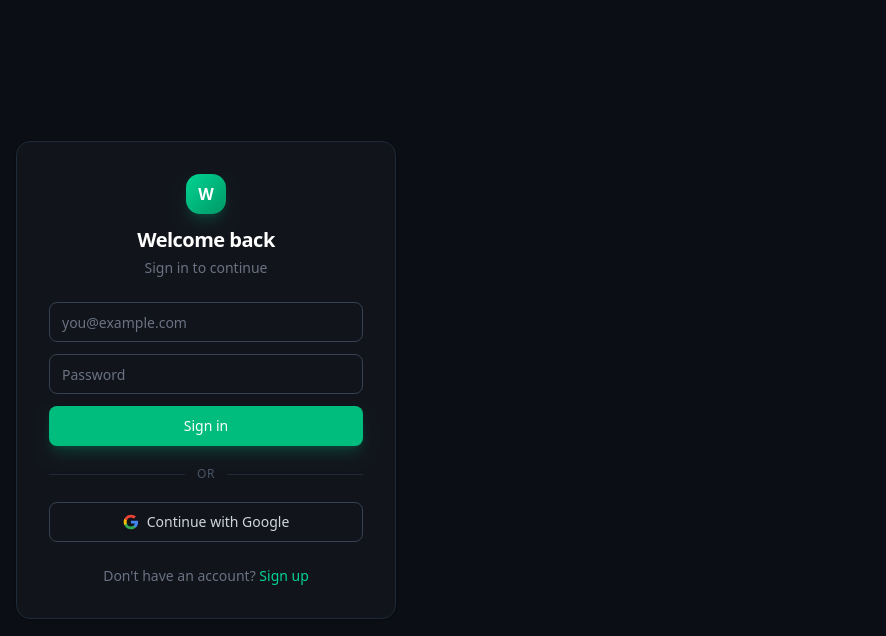
Test: Auth — login submission › shows an error toast when the backend returns a non-ok response
Type "bad@axis.dev" into the field with placeholder "you@example.com" at x=206, y=322, box 49,302 -> 363,342
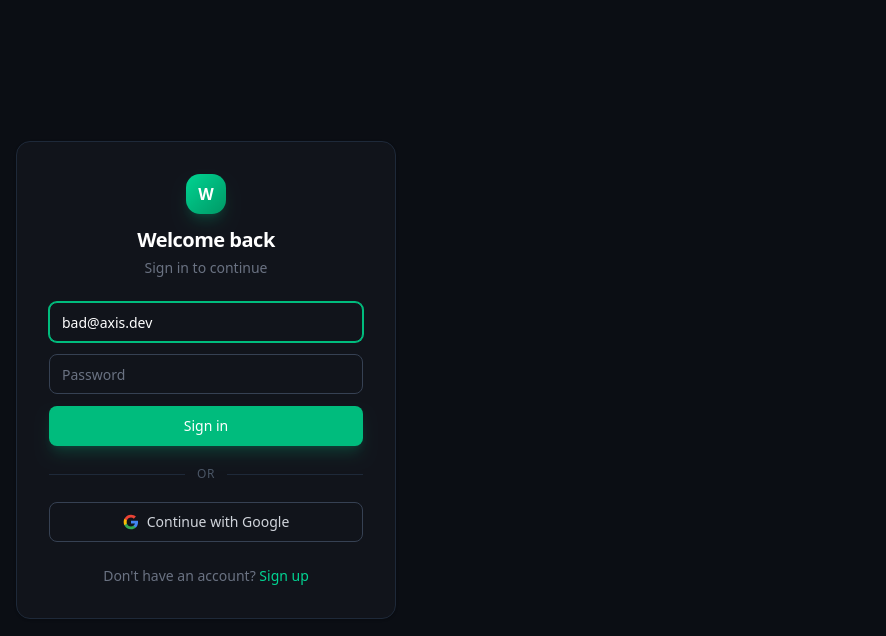
Type "wrongpassword" into the password field with placeholder "Password" at x=206, y=374, box 49,354 -> 363,394
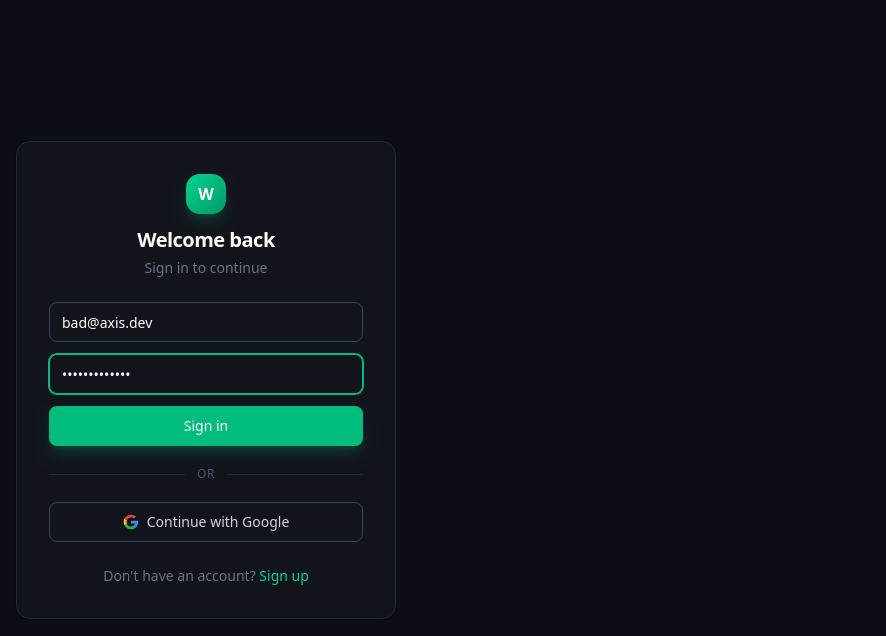
Click the button "Sign in" at x=206, y=426, box 49,406 -> 363,446
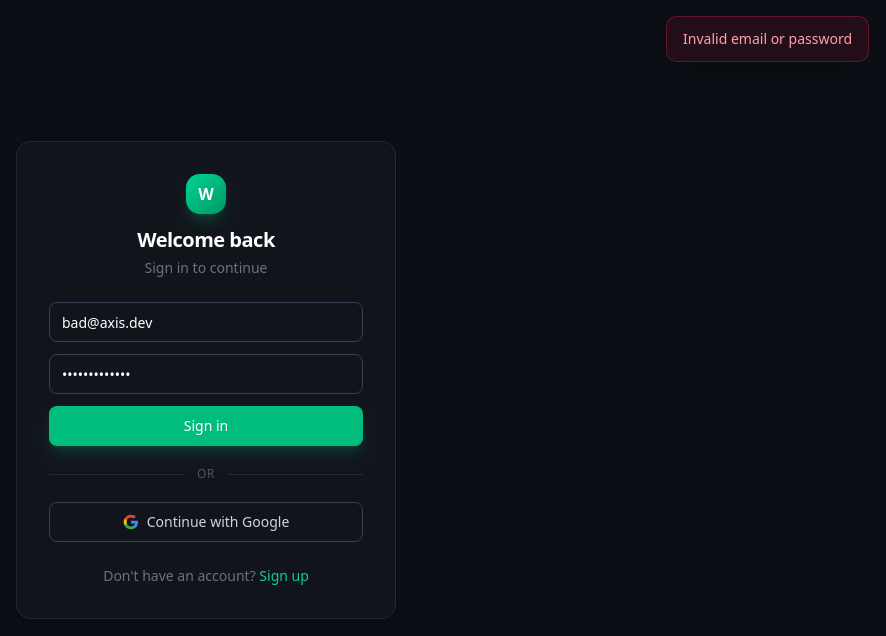
Result: the text "Invalid email or password" is shown at 666,16 -> 869,62
